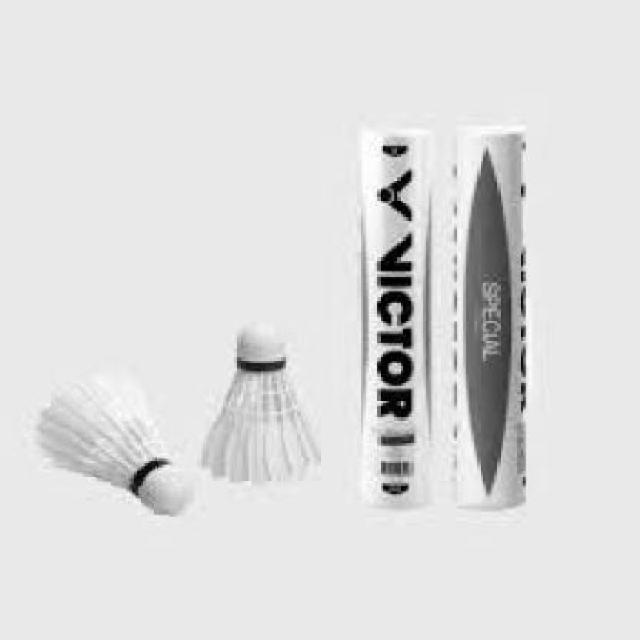Shuttlecock: (28, 369, 198, 514)
